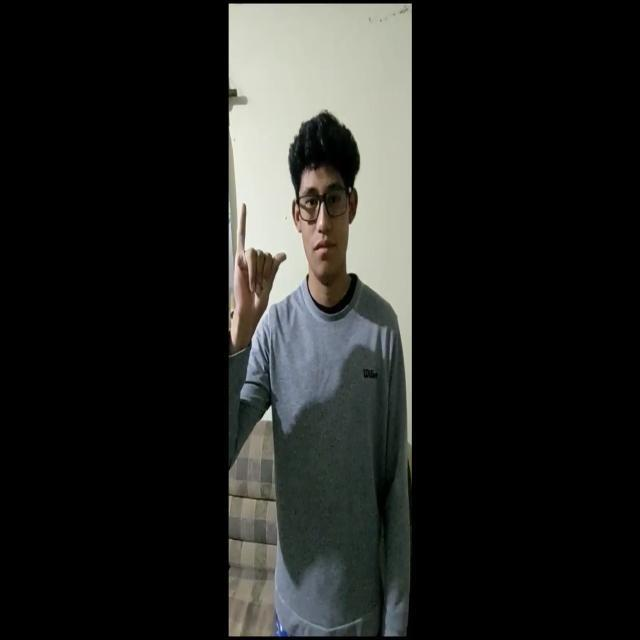I: (232, 202, 290, 346)
